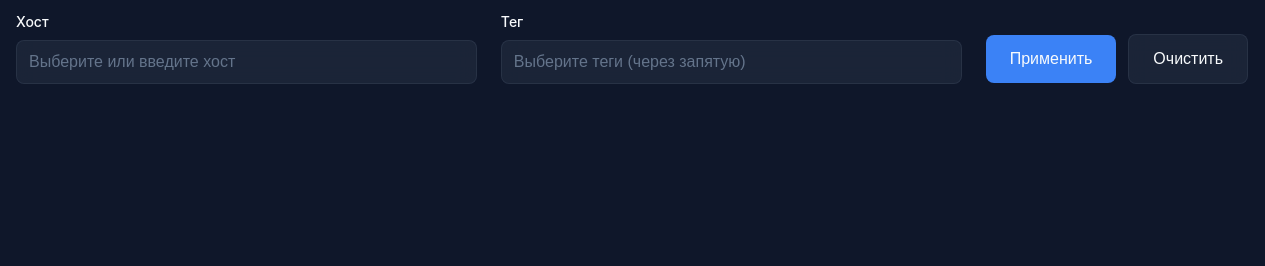
it: FiltersNew Component › handles multiple tag selection
Click the field labelled "Тег" at point(731, 62), box [501,40,962,84]
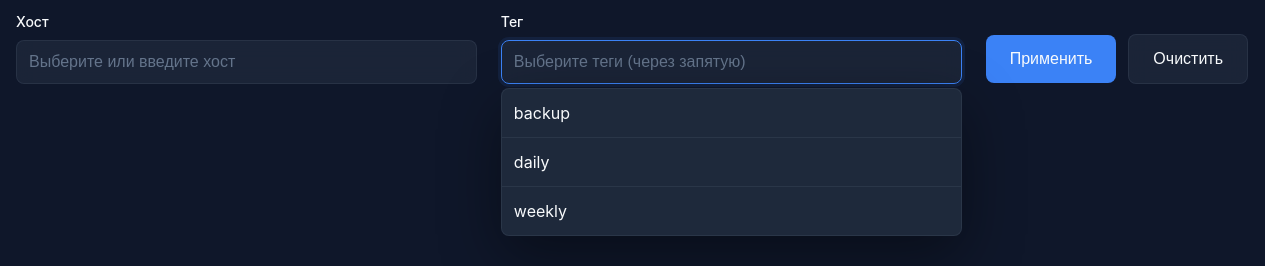
Выбираем первый тег
Click the text "backup" at point(731, 114), box [502,89,961,138]
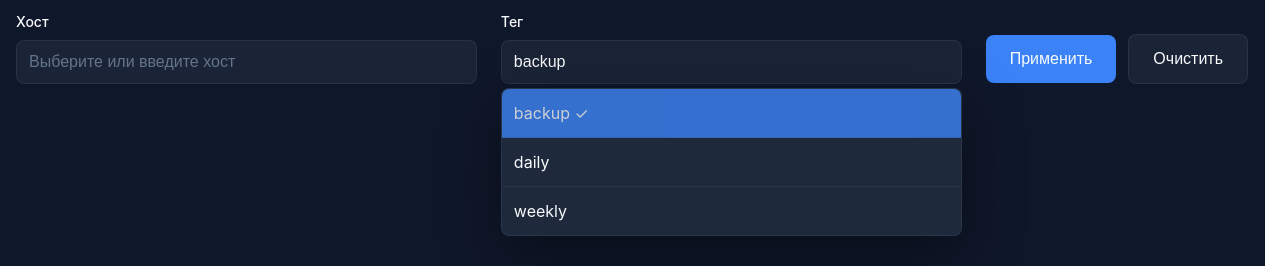
Check: the field labelled "Тег" holds "backup", box [501,40,962,84]
Выбираем второй тег
Click the text "daily" at point(731, 162), box [502,138,961,187]
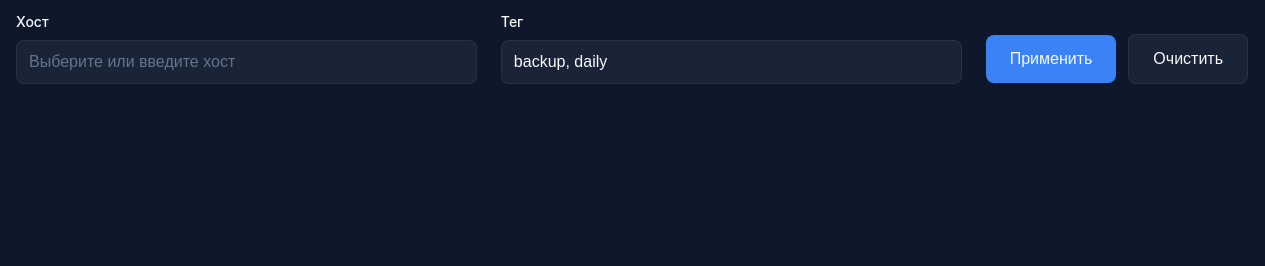
Check: the field labelled "Тег" holds "backup, daily", box [501,40,962,84]
